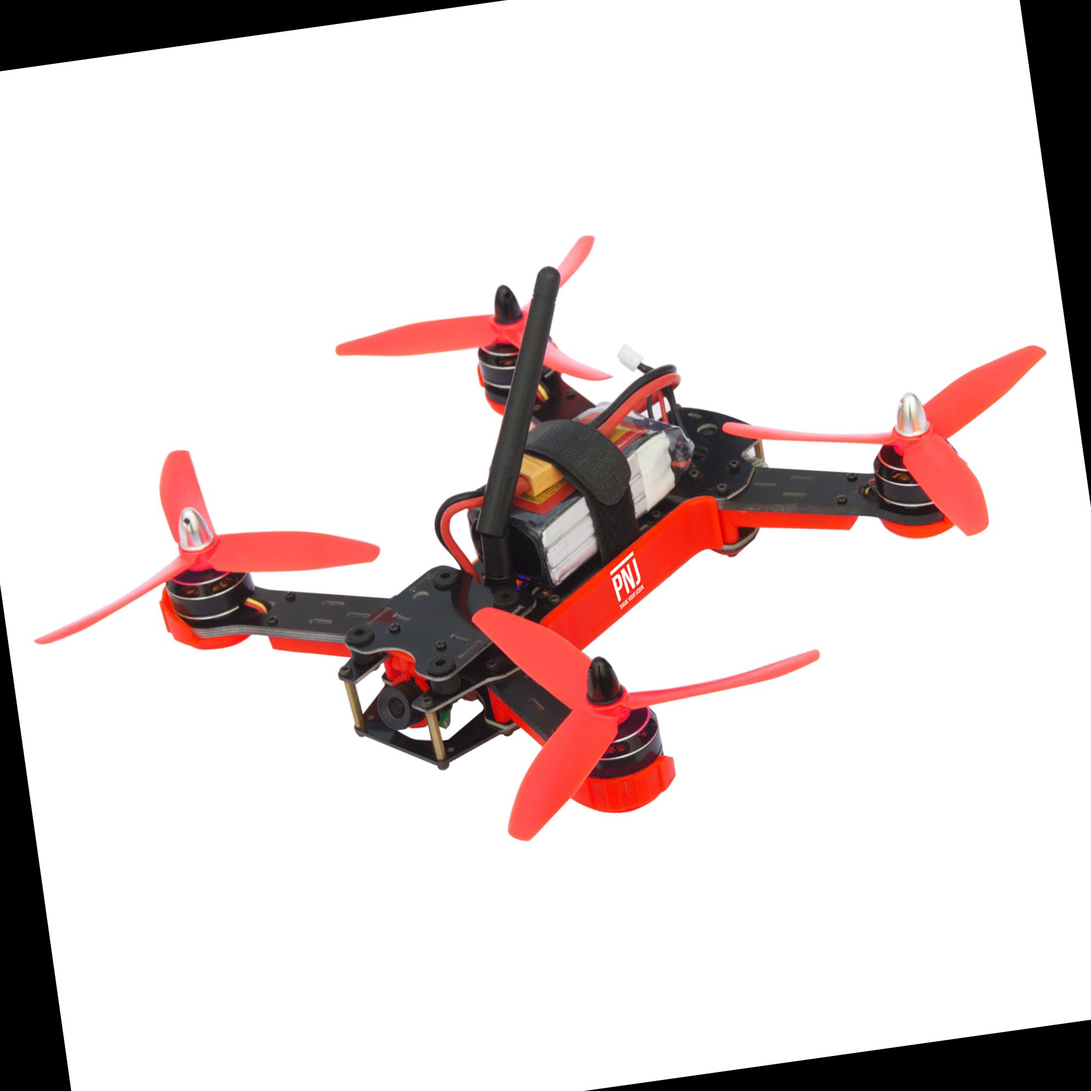drone: (28, 170, 1086, 861)
